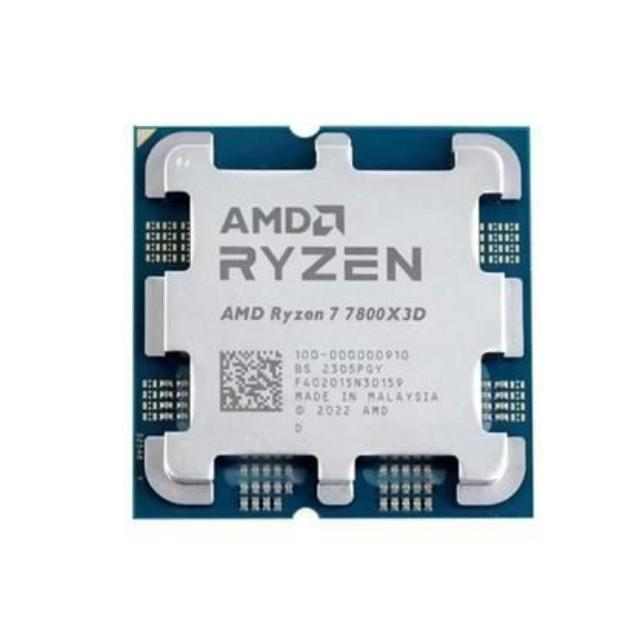CPU: (134, 124, 528, 518)
